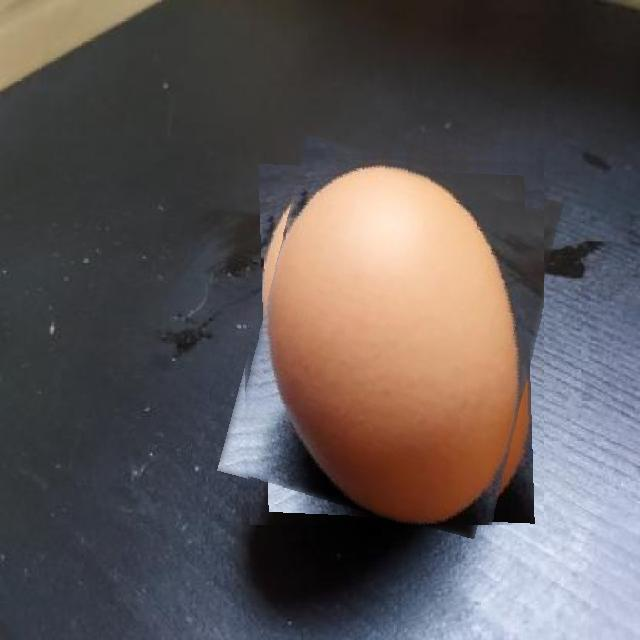biodegradable: (238, 149, 544, 525)
